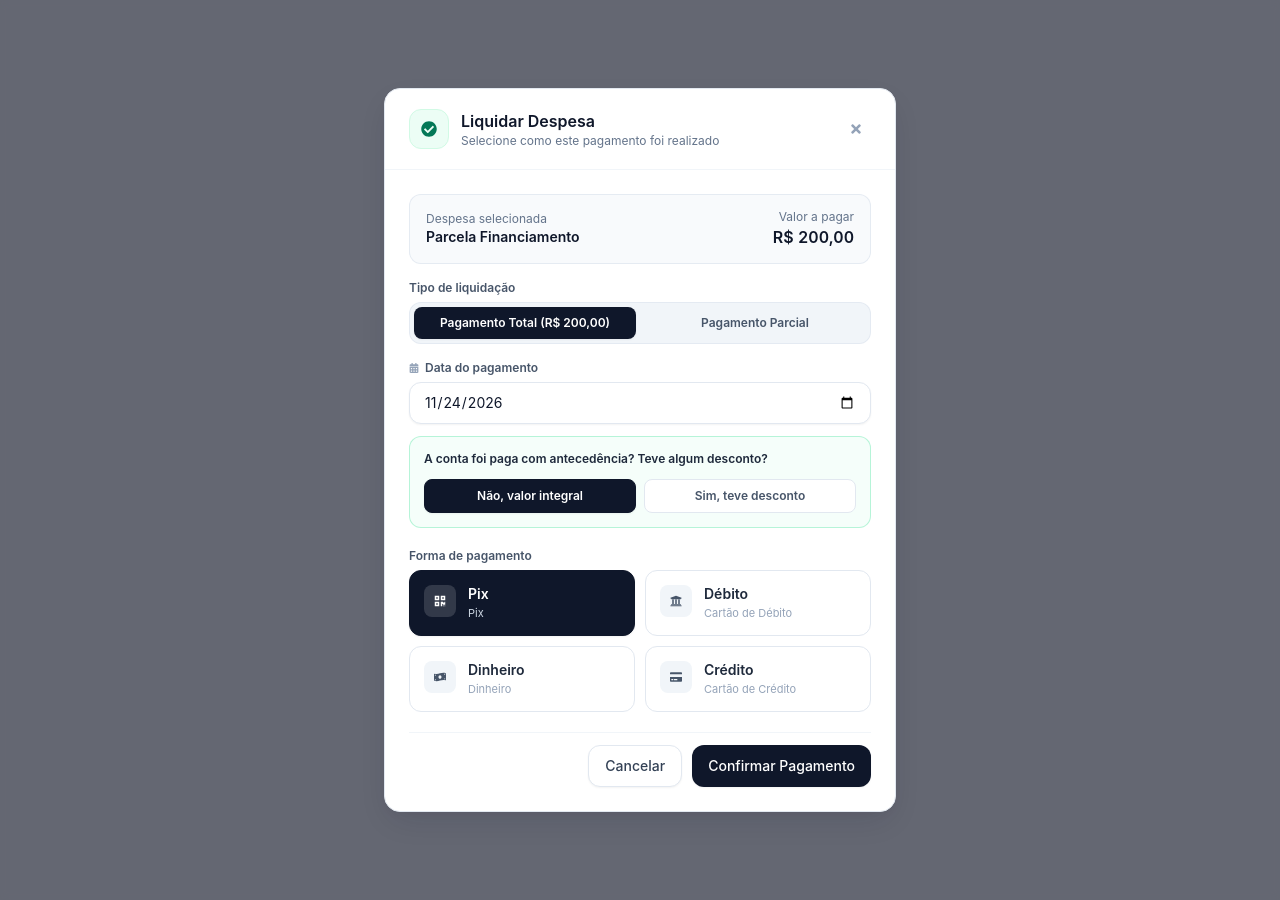
Scenario: PayExpenseModal batch flow › asks about early payment discount, submits discounted paid value, and displays original vs paid on listing
The image size is (1280, 900).
Later steps or results of the test are not shown.
Expected: the text "A conta foi paga com antecedência? Teve algum desconto?" is shown, [424, 451, 768, 466]
Click the button with test id "early-payment-discount-toggle": (750, 496) [644, 479, 856, 513]
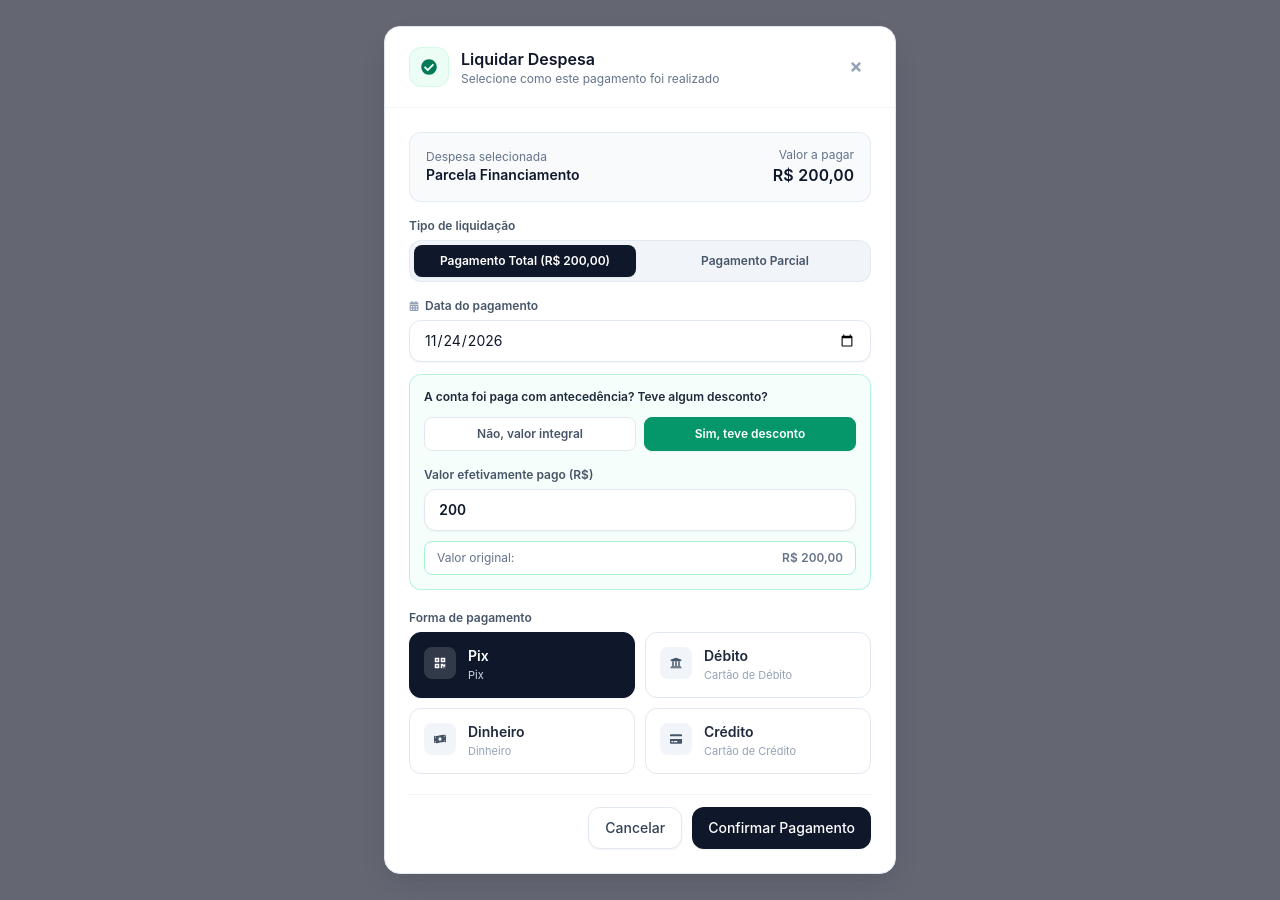
Replace the text in the field with test id "early-discount-paid-input" with "170,00": (640, 510) [424, 489, 856, 531]
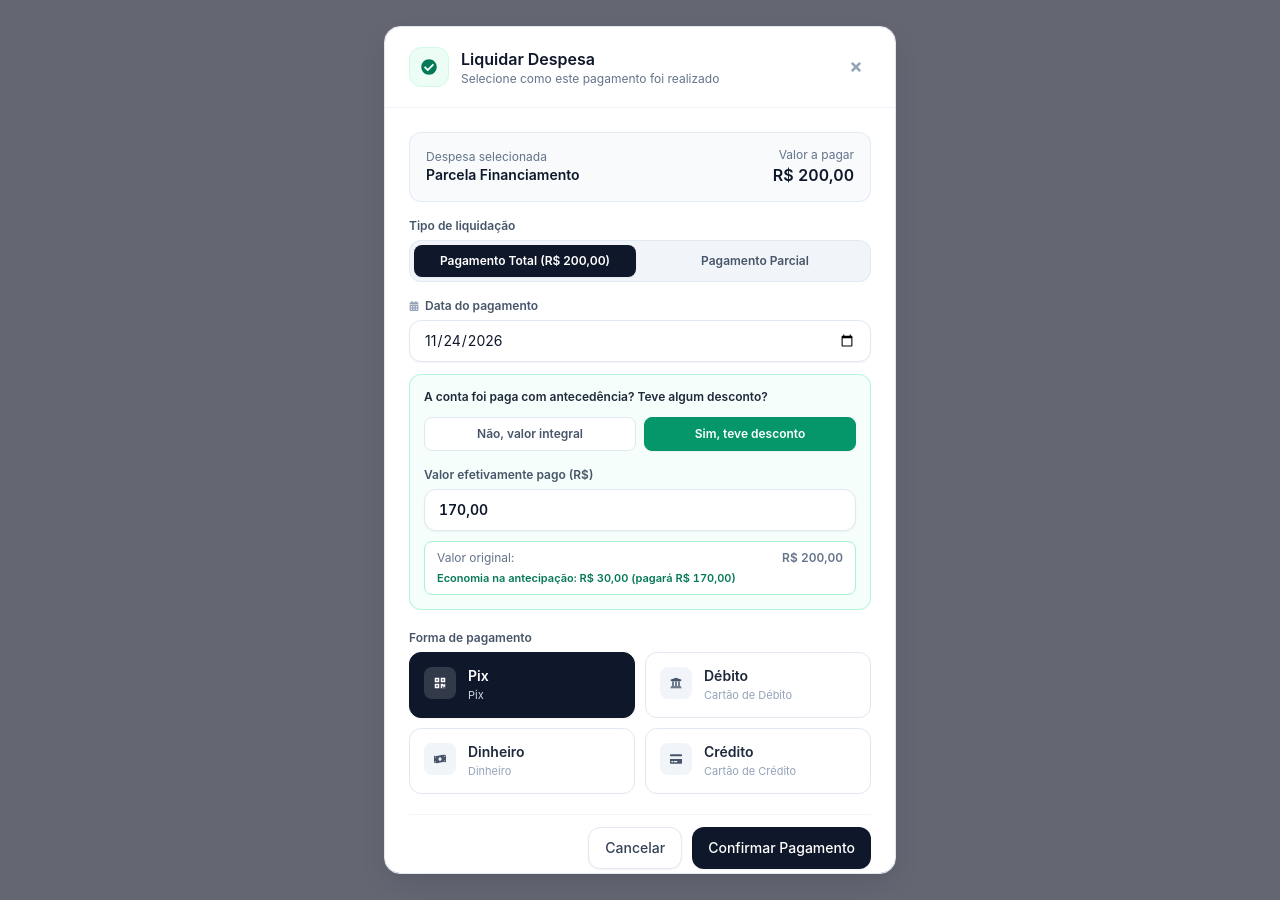
Expected: the text "Economia na antecipação: R$ 30,00 (pagará R$ 170,00)" is shown, [437, 571, 736, 585]
